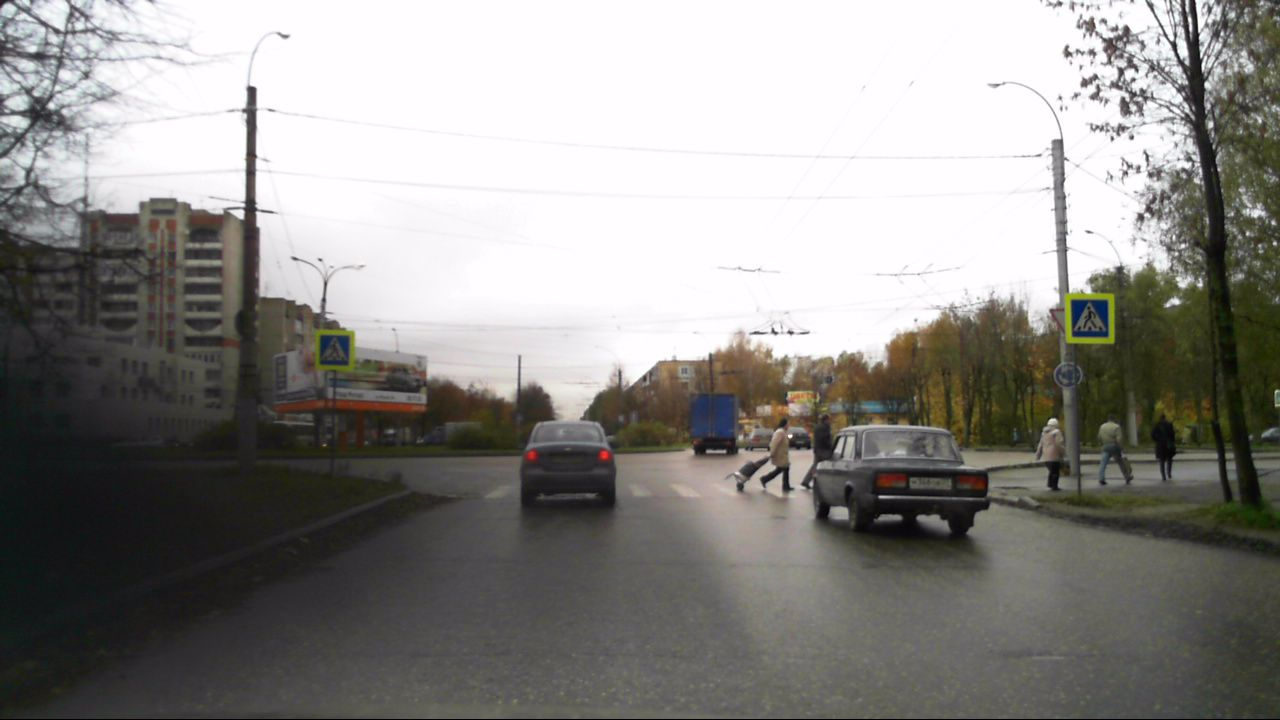Round-About: (1054, 361, 1082, 388)
